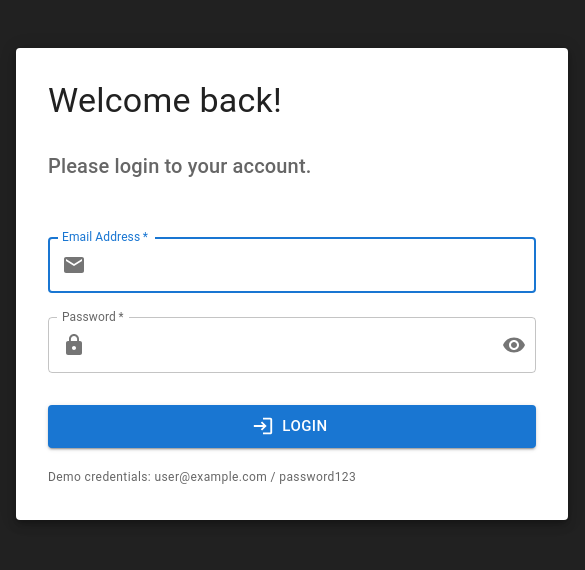
Scenario: Login component render base › should show alert on invalid login
Type "wrong@example.com" into the field labelled "Email Address".
click(315, 265); type("wrong@example.com")  # box [94,237,536,293]
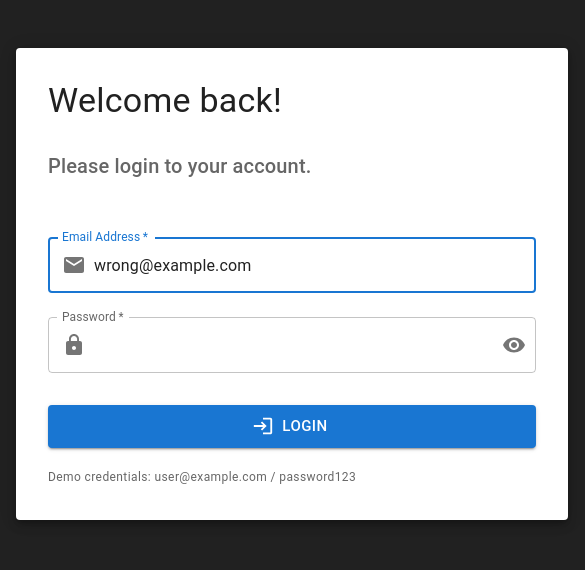
Type "nope" into the password field labelled "Password".
click(290, 345); type("nope")  # box [94,317,486,373]
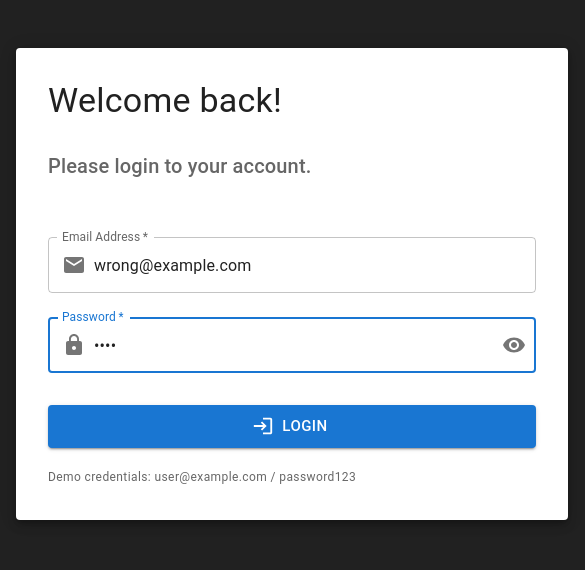
Click the button with aria-label "Login to your account".
click(292, 426)  # box [48,405,536,448]
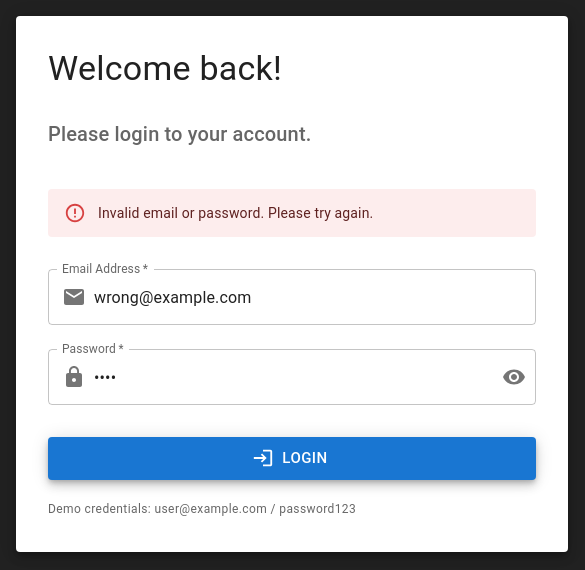
Now the message shows "Invalid email or password", box [98,205,373,221]
